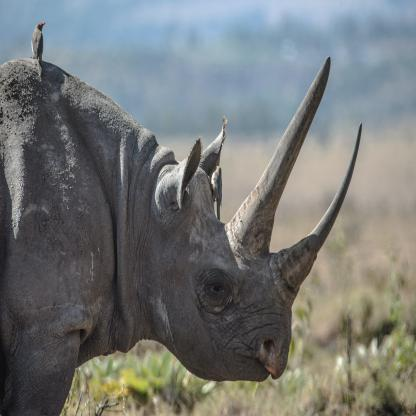Diceros bicornis: (0, 54, 364, 416)
